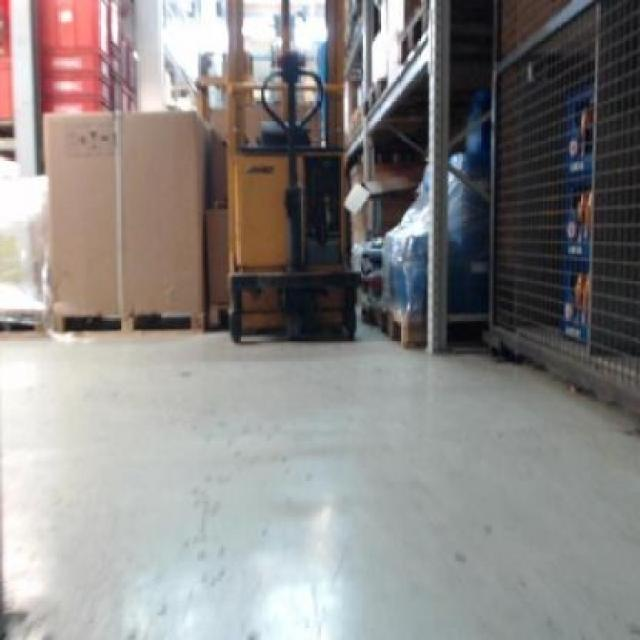floor: (0, 323, 637, 637)
pallets: (489, 0, 637, 409), (43, 112, 202, 328)
